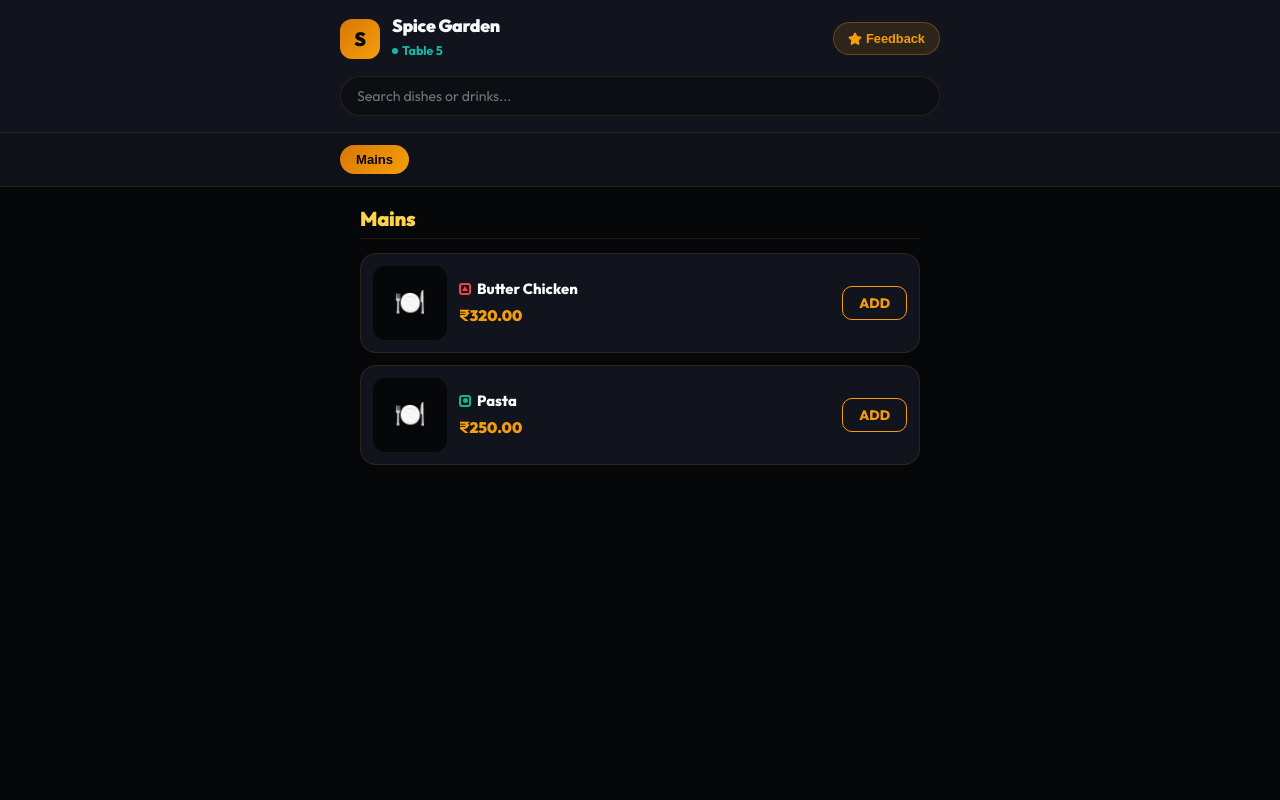
MenuView — guest ordering (frontend ↔ Firestore integration) › selects a required portion and adds with the modifier priced into the line
Expected: the text "Butter Chicken" is shown, [477,277,578,300]
Expected: the text "Pasta" is shown, [477,389,517,412]
Click the button "ADD" in the row of "250.00": click(875, 415) [842,398,907,432]
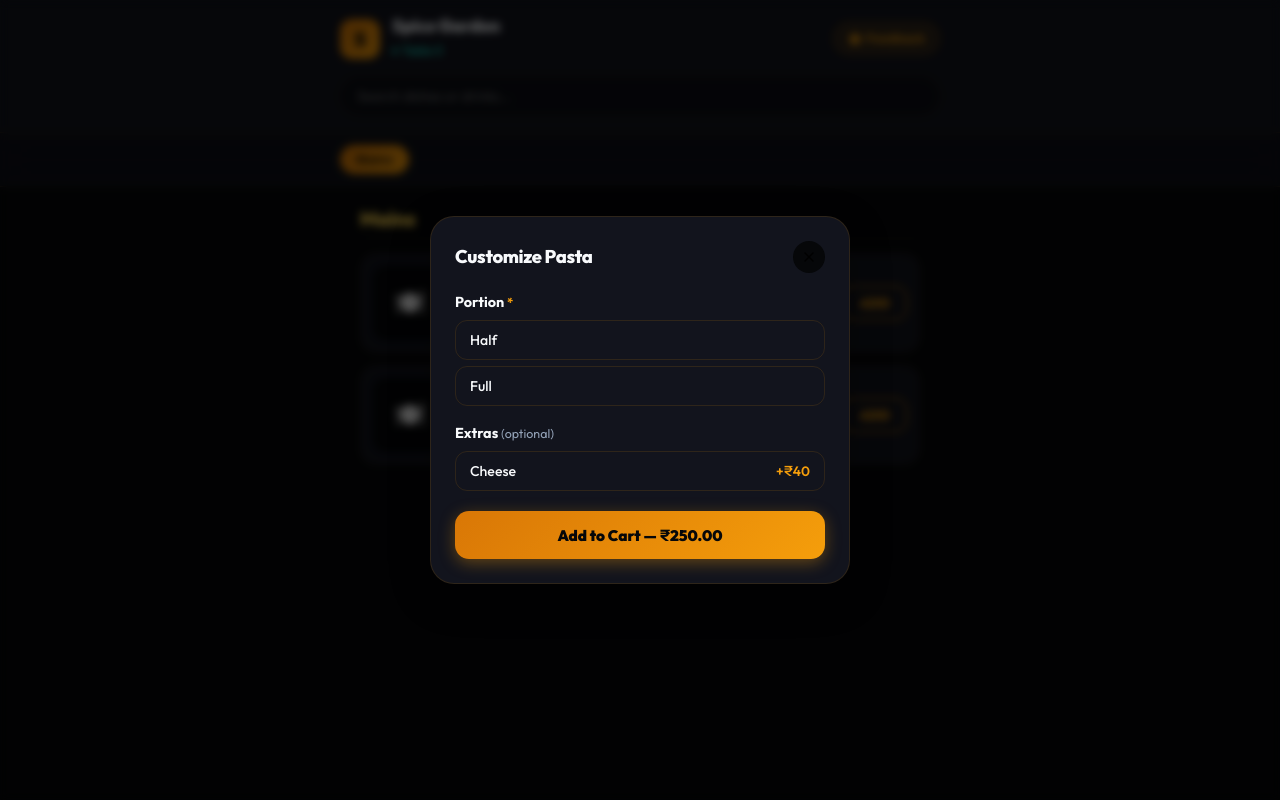
Expected: the heading "Customize Pasta" is shown, [455,246,592,268]
Click the button "Full": click(481, 386) [455,366,825,406]
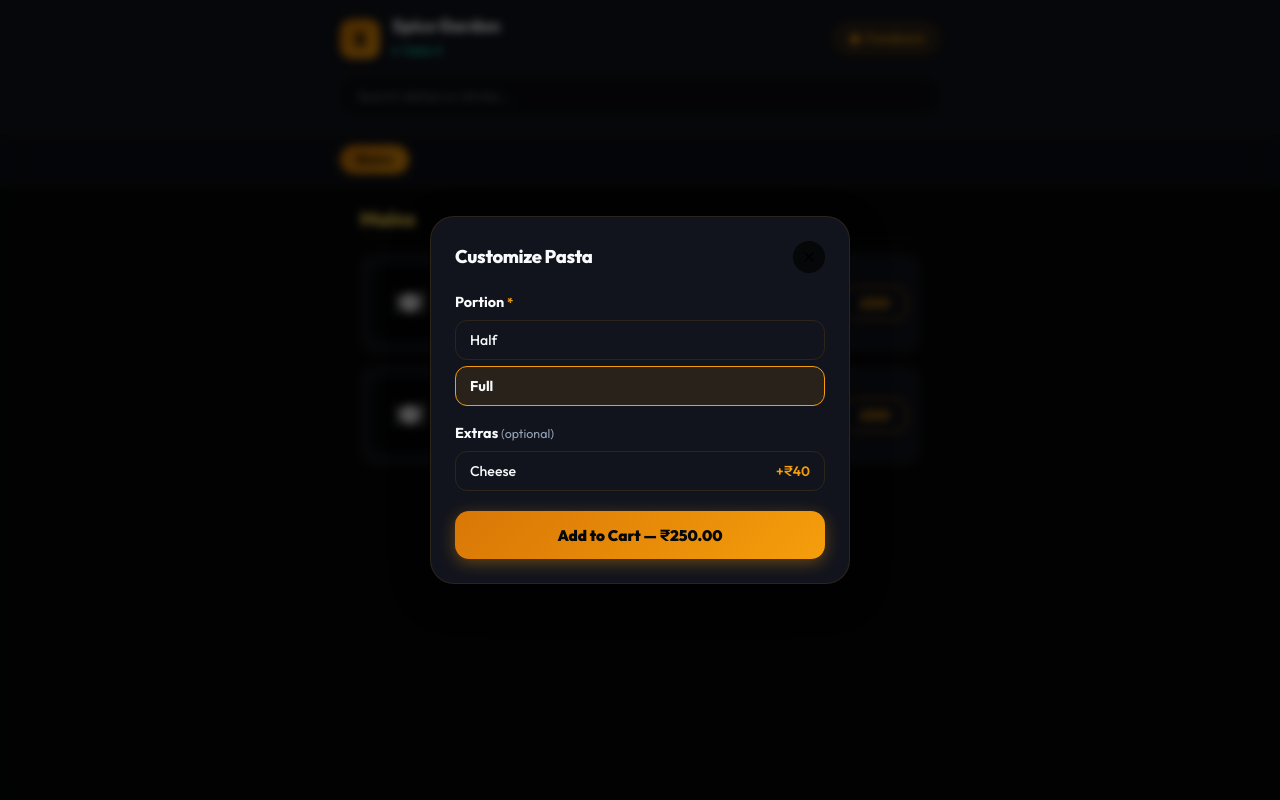
Click the button "Add to Cart — ₹250.00": click(640, 535) [455,511,825,559]
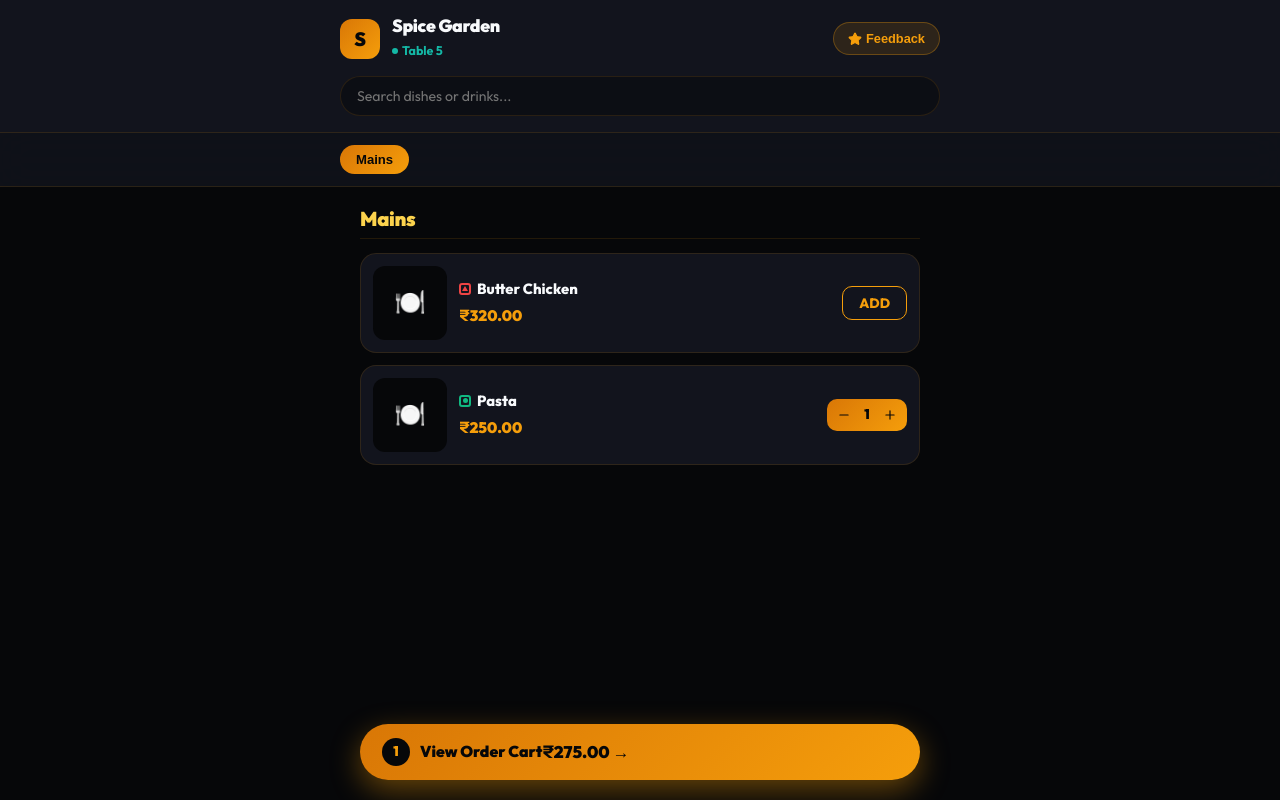
Expected: the heading "Customize Pasta" is gone
Expected: the text "View Order Cart" is shown, [420,740,542,765]
